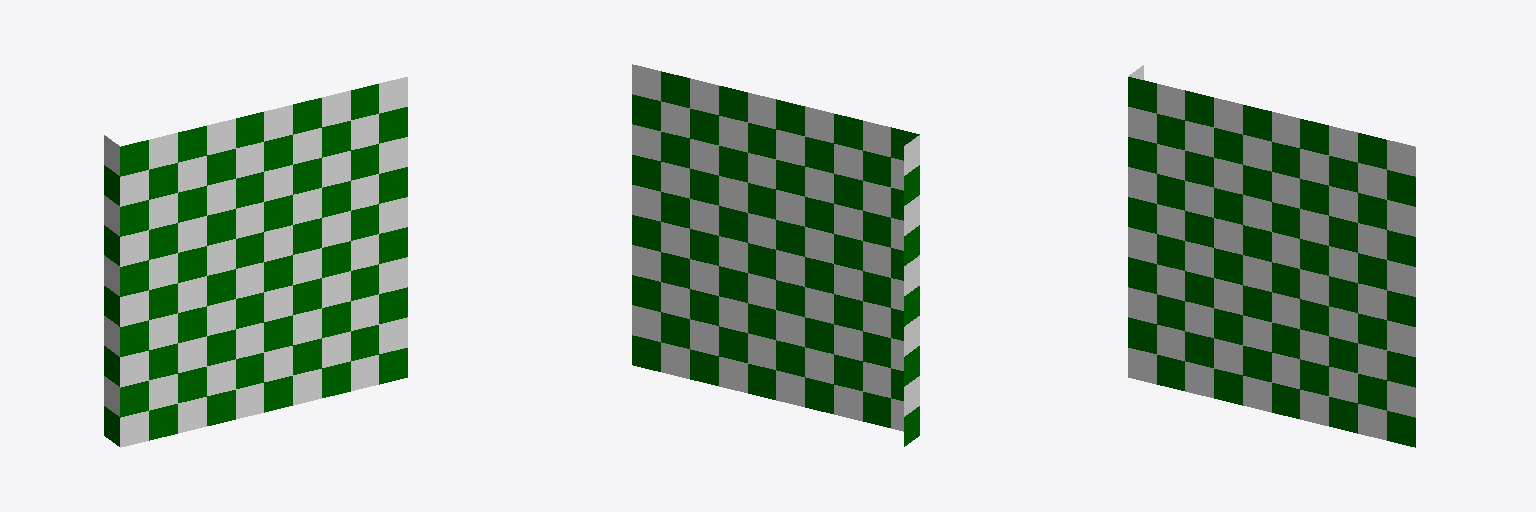
3 views of the same model, side by side, from view 1: azimuth 30°, elevation 25°; view 2: azimuth 150°, elevation 25°; view 3: azimuth 330°, elevation 25° (orthographic).
Parts seen in each view (by area): view 1: Plane; view 2: Plane; view 3: Plane.
Part boxes in pixels (x1,y1,x2,y2): Plane: (104, 77, 407, 447); Plane: (632, 64, 919, 446); Plane: (1128, 65, 1415, 447).
Bounding box in the file's own units: 10 × 10 × 1.
Materials: 1 (1 with a texture image).